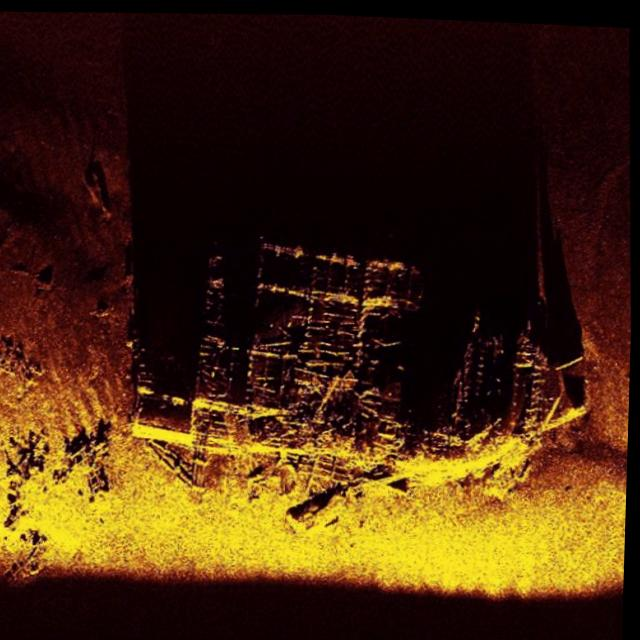shipwreck: (129, 229, 588, 492)
